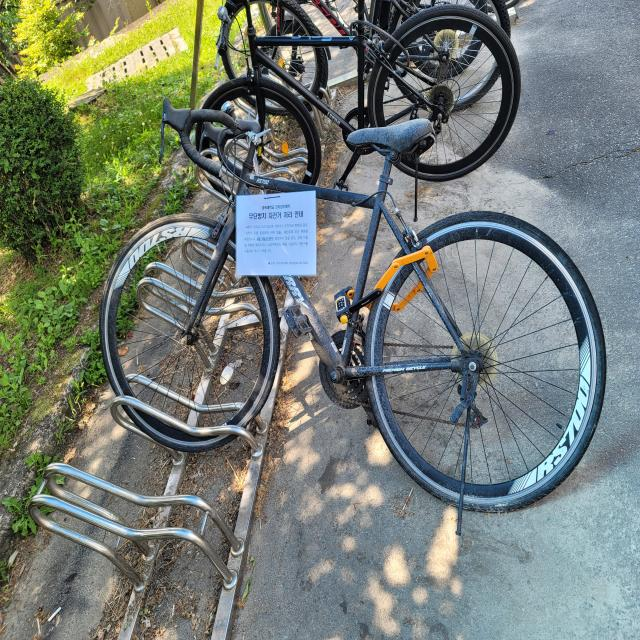bicycle: (98, 78, 606, 532), (211, 0, 521, 182)
